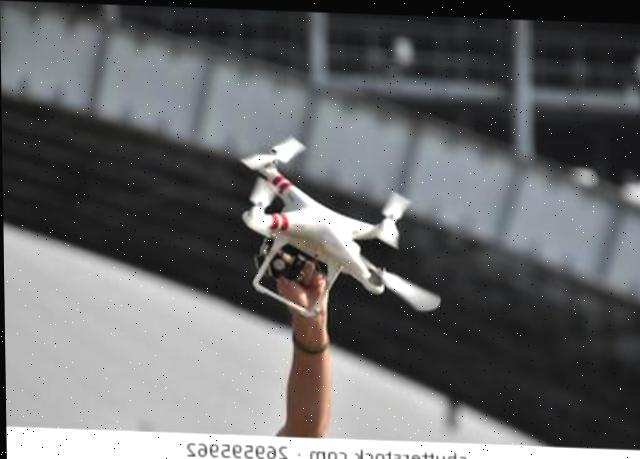drone: (150, 94, 527, 361)
